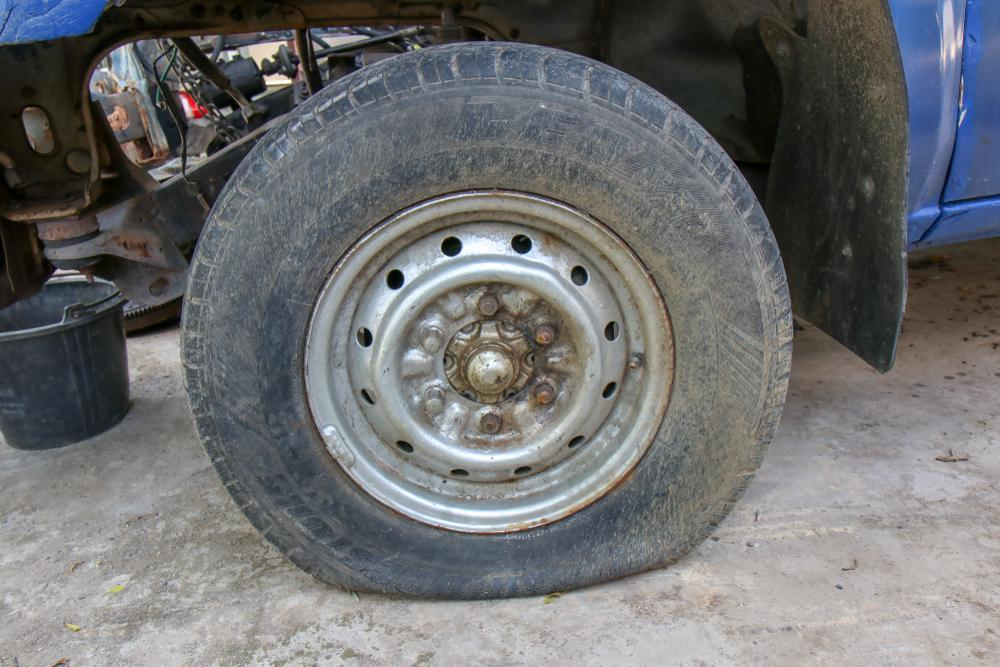tire flat: (181, 39, 791, 598)
